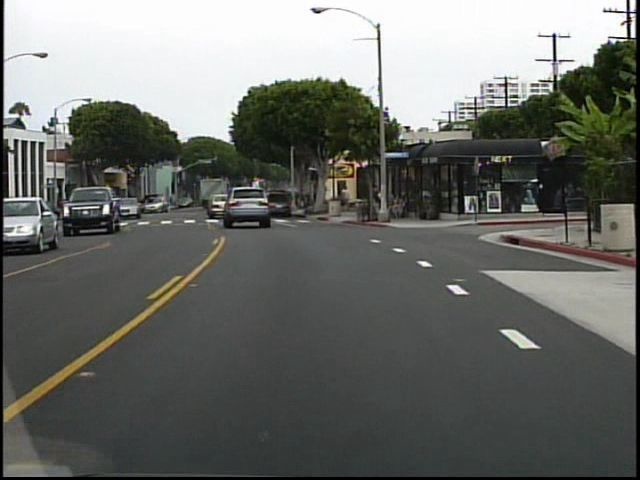person: (365, 185, 383, 222)
